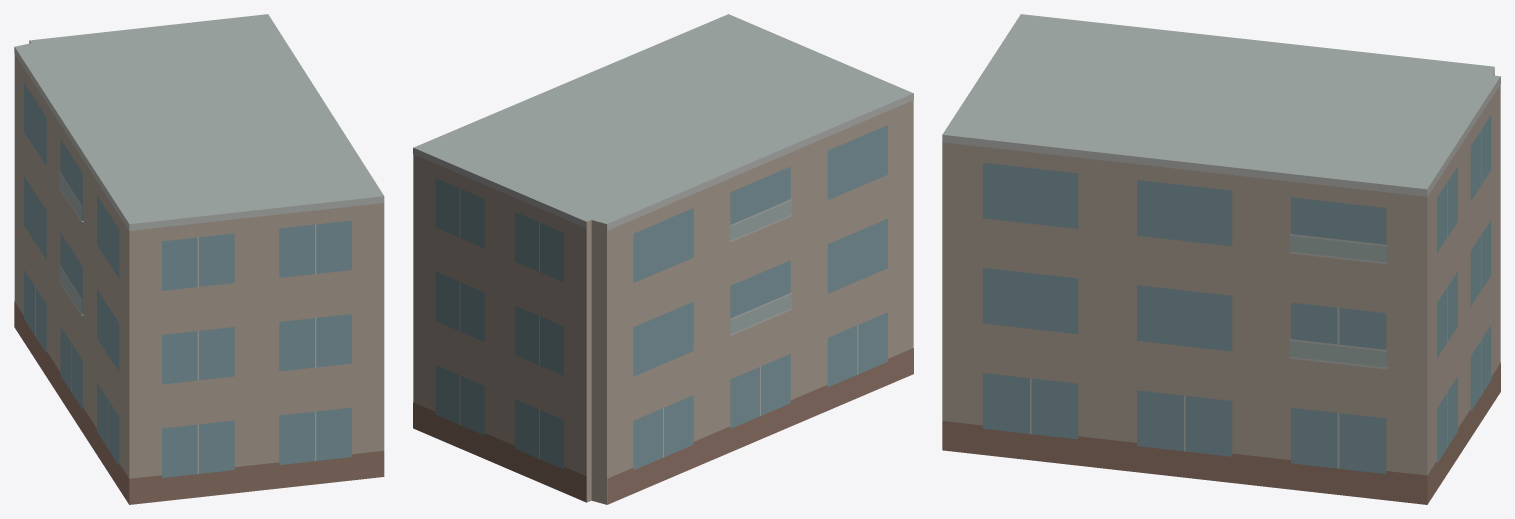
Rendered from survey-upis-32903719.glb.
The picture shows the model from 3 angles, left to right: view 1: azimuth 30°, elevation 25°; view 2: azimuth 150°, elevation 25°; view 3: azimuth 270°, elevation 25°; orthographic projection. The views are drawn at different scales.
Visible parts, largest first — view 1: survey-upis-32903719.tmp; view 2: survey-upis-32903719.tmp; view 3: survey-upis-32903719.tmp.
Part boxes in pixels (x1,y1,x2,y2): survey-upis-32903719.tmp: [14, 14, 384, 504]; survey-upis-32903719.tmp: [413, 14, 913, 504]; survey-upis-32903719.tmp: [942, 14, 1500, 504].
Size of the model in its own units: 12.16 by 10.2 by 16.37.
